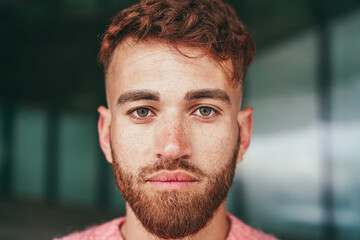teen: (95, 14, 263, 233)
